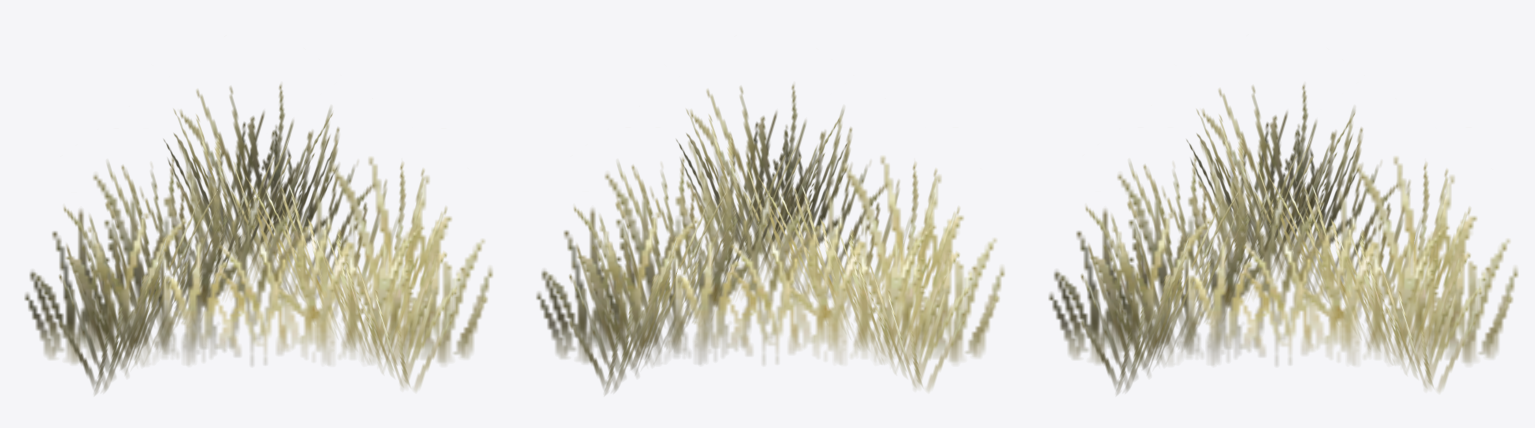
File: grass-10.glb
3 views of the same model, side by side, from view 1: azimuth 30°, elevation 25°; view 2: azimuth 150°, elevation 25°; view 3: azimuth 270°, elevation 25° (orthographic).
Visible parts, largest first — view 1: grass_la_tall_a; view 2: grass_la_tall_a; view 3: grass_la_tall_a.
Part boxes in pixels (bbox=[...]): grass_la_tall_a: bbox=[24, 83, 492, 394]; grass_la_tall_a: bbox=[536, 84, 1004, 394]; grass_la_tall_a: bbox=[1048, 84, 1518, 394].
Size of the model in its own units: 6.92 by 3.22 by 6.82.
Materials: 1 (1 with a texture image).
